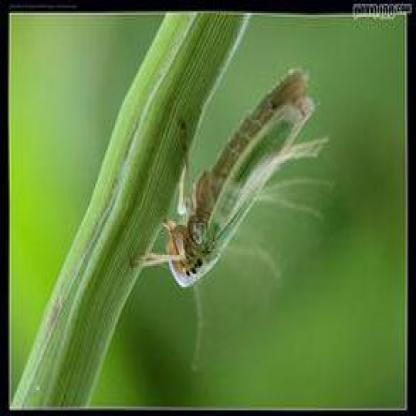green-leafhopper: (160, 67, 322, 304)
